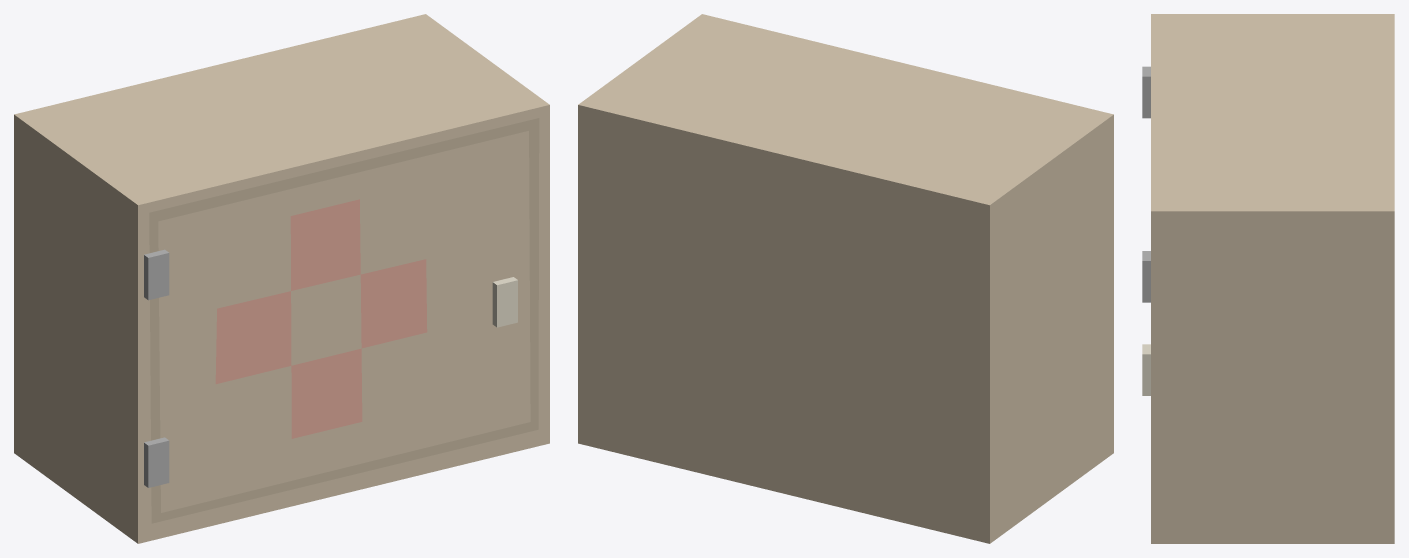
The model's file is locker2.fbx.
3 views of the same model, side by side, from view 1: azimuth 30°, elevation 25°; view 2: azimuth 150°, elevation 25°; view 3: azimuth 270°, elevation 25° (orthographic).
Visible parts, largest first — view 1: Null_3; view 2: Null_3; view 3: Null_3.
Boxes of the visible parts, x1=… form: Null_3: x1=14, y1=14, x2=549, y2=543; Null_3: x1=578, y1=14, x2=1113, y2=543; Null_3: x1=1142, y1=14, x2=1394, y2=543.
Size of the model in its own units: 82.44 by 64.78 by 44.56.
